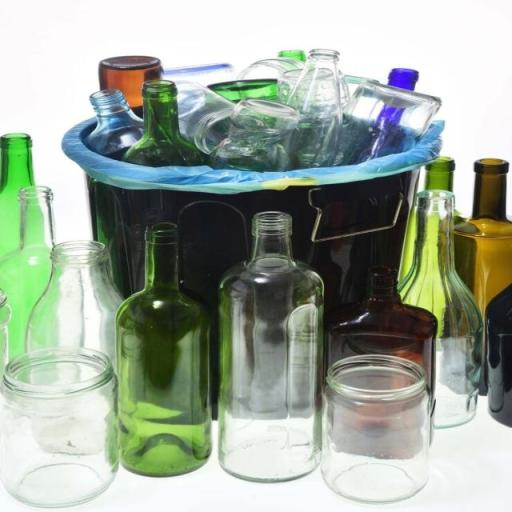glass: (203, 207, 346, 491), (115, 224, 215, 474), (397, 190, 482, 422), (0, 348, 119, 508), (117, 80, 209, 282), (324, 264, 436, 428), (320, 354, 432, 504), (24, 241, 124, 386), (84, 90, 155, 276), (312, 72, 451, 158), (0, 186, 62, 376), (452, 158, 510, 348), (275, 49, 349, 167), (207, 100, 303, 171), (0, 136, 41, 287), (93, 52, 172, 117)
